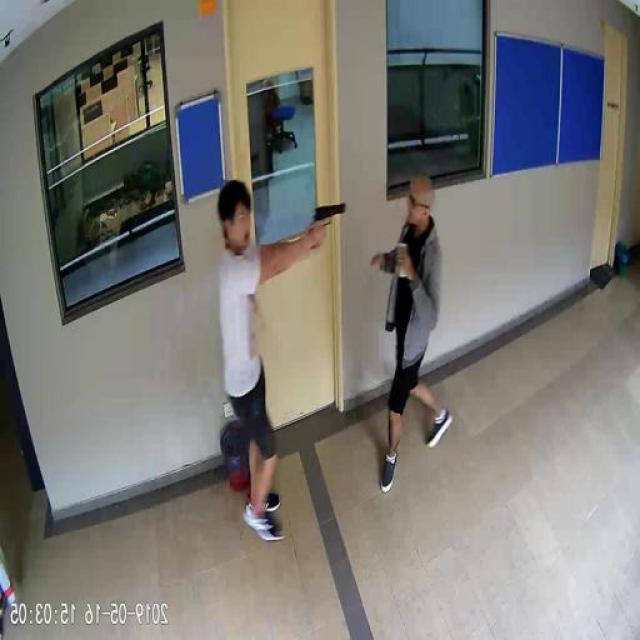weapon: (308, 200, 346, 248)
